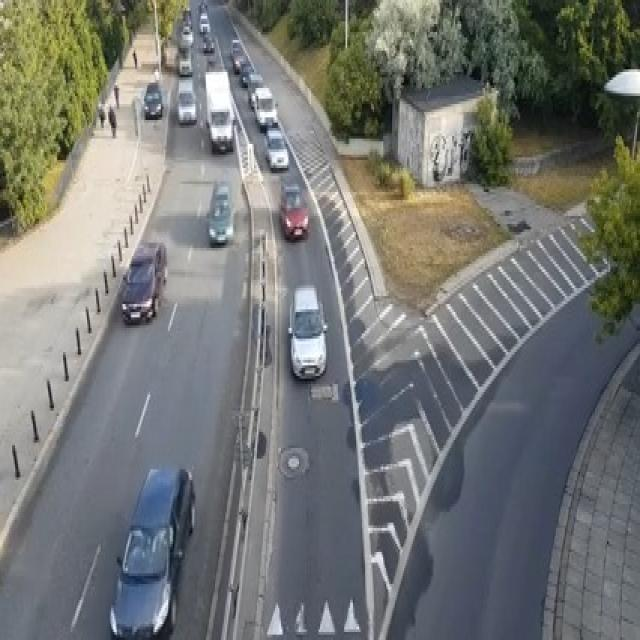car: (108, 464, 195, 637), (120, 240, 167, 323), (287, 282, 327, 378), (278, 181, 308, 240), (207, 182, 233, 246), (252, 85, 276, 131), (263, 128, 288, 171), (143, 80, 162, 117), (177, 88, 197, 123), (246, 72, 263, 107), (230, 37, 246, 72), (178, 42, 192, 74), (239, 61, 254, 85), (180, 24, 194, 45), (198, 10, 210, 34), (182, 8, 191, 27), (203, 34, 213, 50), (196, 0, 207, 13)
